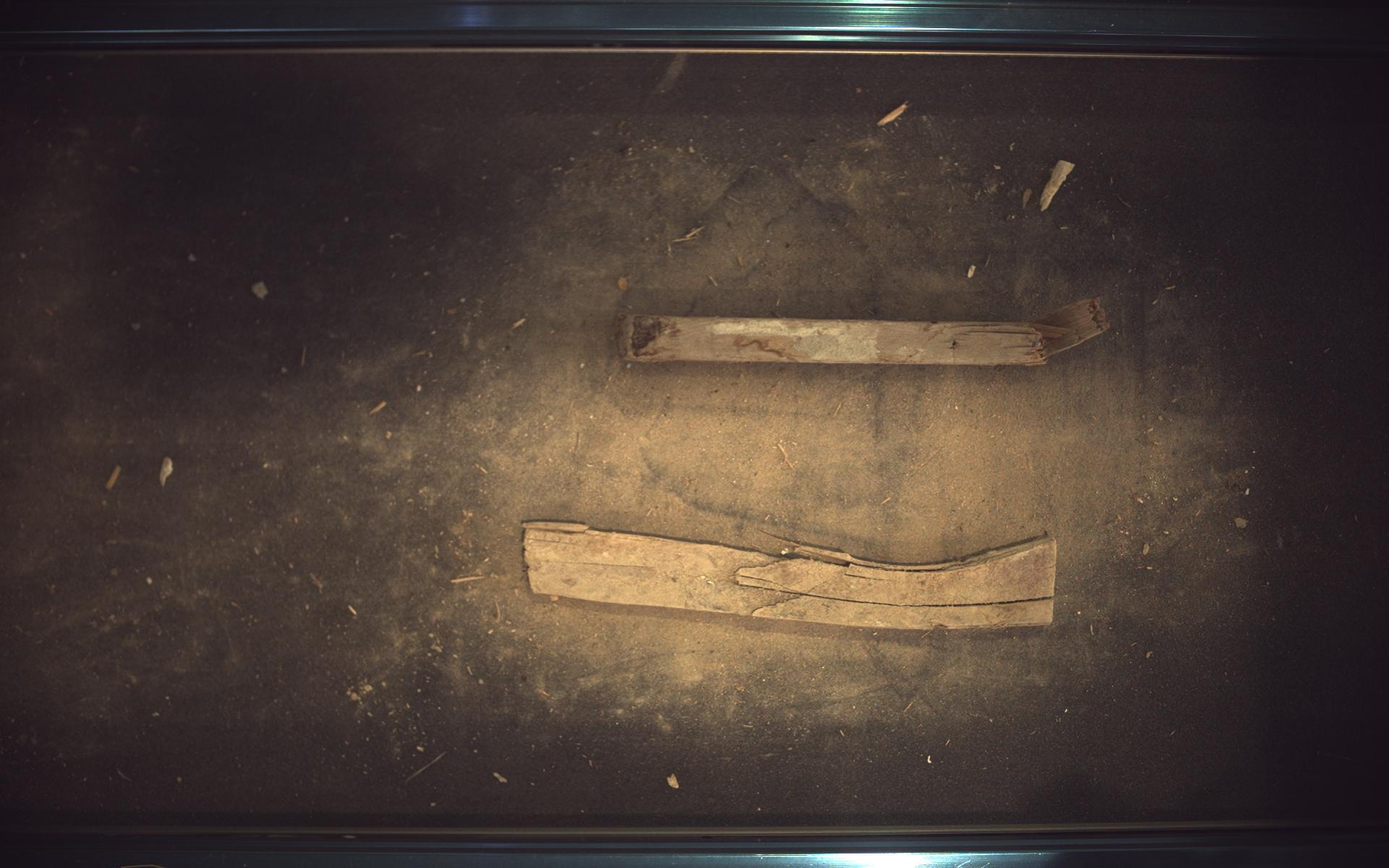wood: (524, 522, 1058, 631), (621, 297, 1111, 365)
